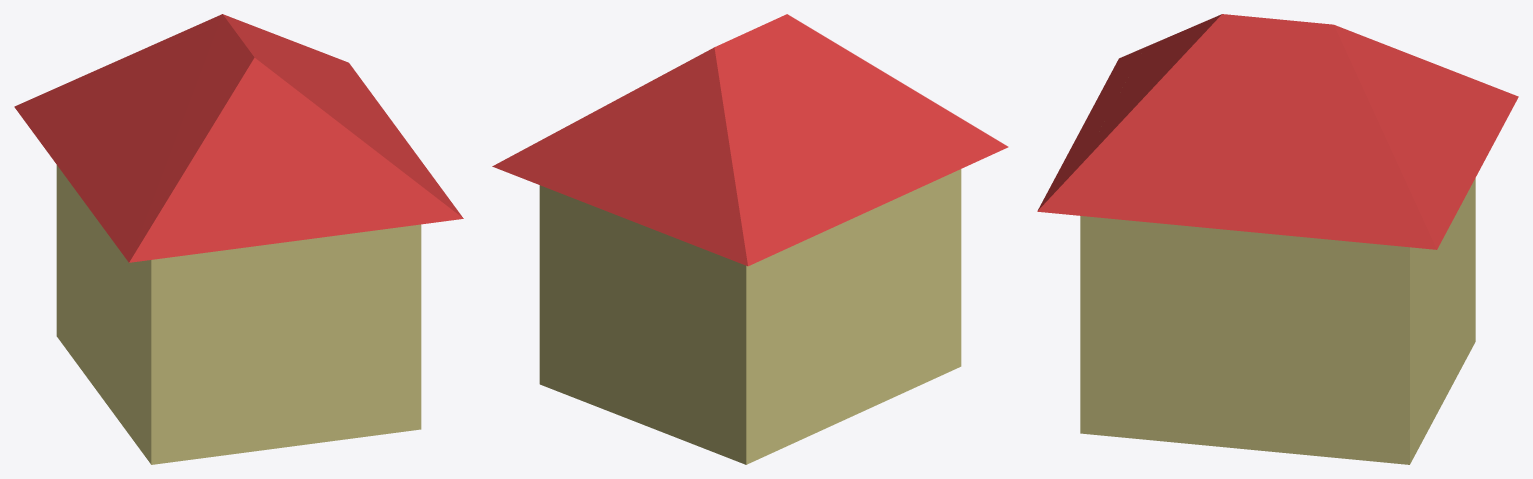
3 renders of one model, left to right at view 1: azimuth 30°, elevation 25°; view 2: azimuth 150°, elevation 25°; view 3: azimuth 270°, elevation 25°, orthographic. The views are drawn at different scales.
Visible parts, largest first — view 1: group_5, group_3, group_4; view 2: group_5, group_3, group_4; view 3: group_5, group_3, group_4.
Boxes of the visible parts, x1,y1,x2,y2 form: group_5: (56, 165, 421, 464); group_3: (14, 14, 463, 262); group_4: (129, 51, 463, 262); group_5: (539, 169, 961, 464); group_3: (492, 14, 1008, 266); group_4: (673, 115, 1006, 265); group_5: (1080, 178, 1475, 464); group_3: (1037, 14, 1518, 249); group_4: (1037, 48, 1518, 249).
Size of the model in its own units: 12.56 by 13.36 by 11.26.
